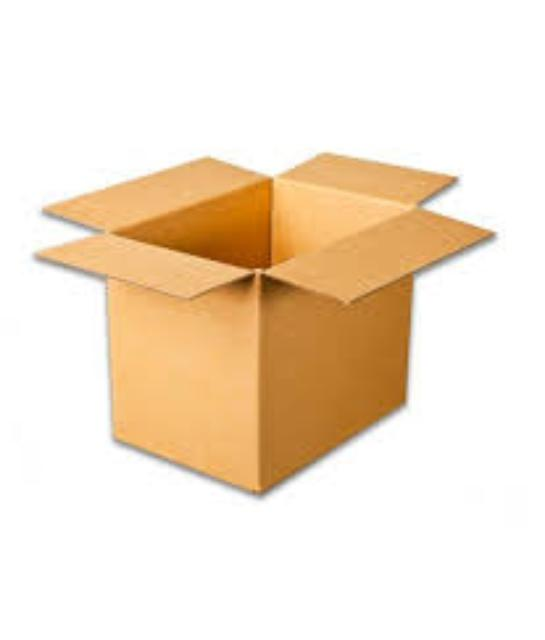cardboard paper: (37, 150, 485, 487)
